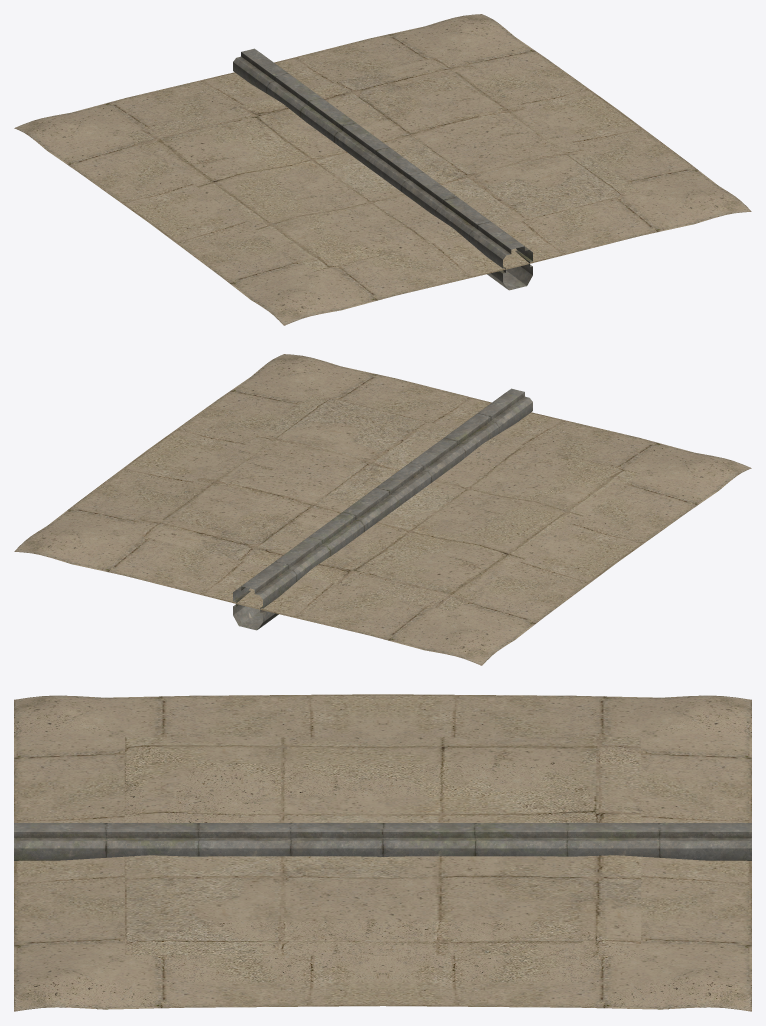
Rendered from SM_ground_Road_Middle_250x250cm_1_a.fbx.
3 renders of one model, top to bottom at view 1: azimuth 30°, elevation 25°; view 2: azimuth 150°, elevation 25°; view 3: azimuth 270°, elevation 25°, orthographic. The views are drawn at different scales.
Parts seen in each view (by area): view 1: SM_ground_Road_Middle_250x250cm_1_a, Railing_base01; view 2: SM_ground_Road_Middle_250x250cm_1_a, Railing_base01; view 3: SM_ground_Road_Middle_250x250cm_1_a, Railing_base01.
Boxes of the visible parts, box(x1,y1,x2,y2) form: SM_ground_Road_Middle_250x250cm_1_a: box(14, 14, 751, 325); Railing_base01: box(233, 48, 532, 290); SM_ground_Road_Middle_250x250cm_1_a: box(14, 354, 751, 665); Railing_base01: box(233, 388, 532, 630); SM_ground_Road_Middle_250x250cm_1_a: box(14, 694, 751, 1011); Railing_base01: box(14, 823, 751, 860).
Size of the model in its own units: 500 by 41.2 by 500.
